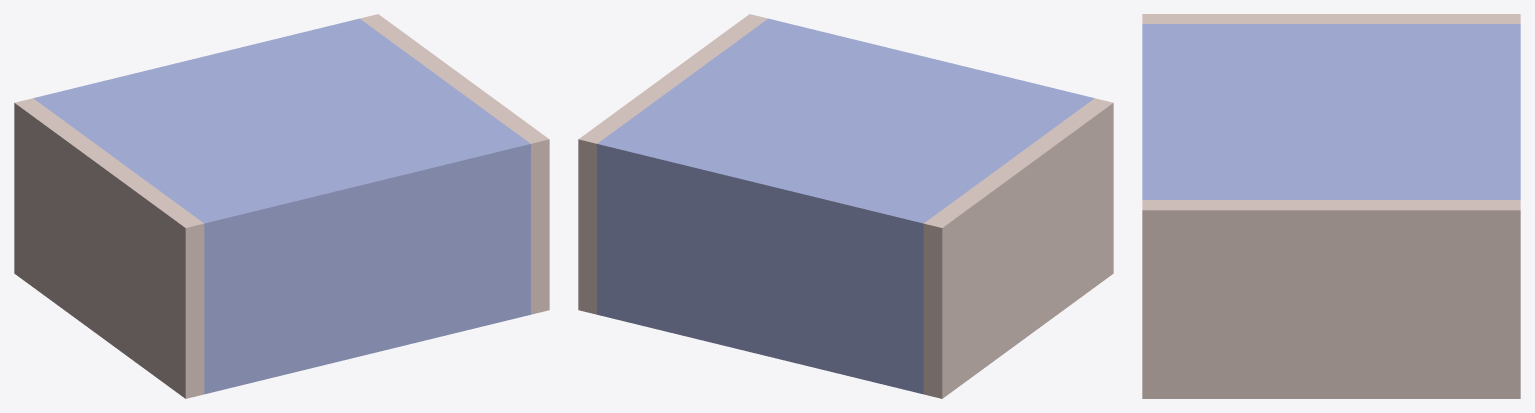
Rendered from Finish_Cubic.fbx.
The picture shows the model from 3 angles, left to right: view 1: azimuth 30°, elevation 25°; view 2: azimuth 150°, elevation 25°; view 3: azimuth 270°, elevation 25°; orthographic projection. The views are drawn at different scales.
Visible parts, largest first — view 1: ENV_Finish_Cubic; view 2: ENV_Finish_Cubic; view 3: ENV_Finish_Cubic.
Part boxes in pixels (x1,y1,x2,y2): ENV_Finish_Cubic: [14, 14, 549, 398]; ENV_Finish_Cubic: [578, 14, 1113, 398]; ENV_Finish_Cubic: [1142, 14, 1520, 398].
Bounding box in the file's own units: 495 × 222 × 404.
